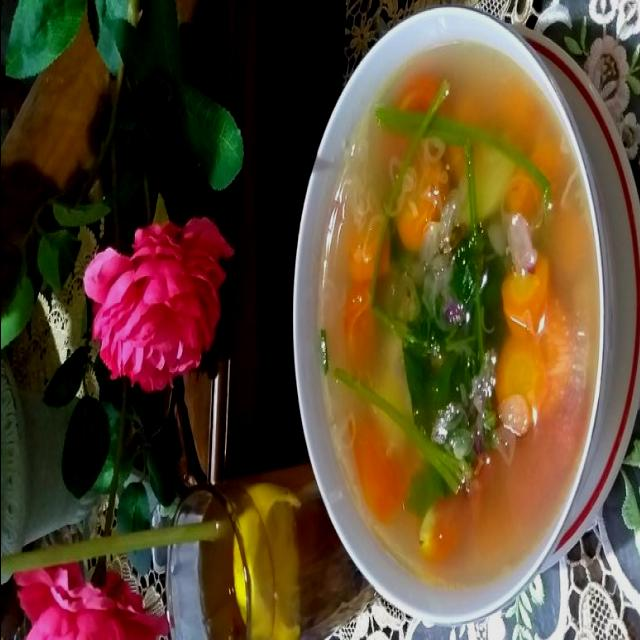sop: (305, 47, 616, 622)
